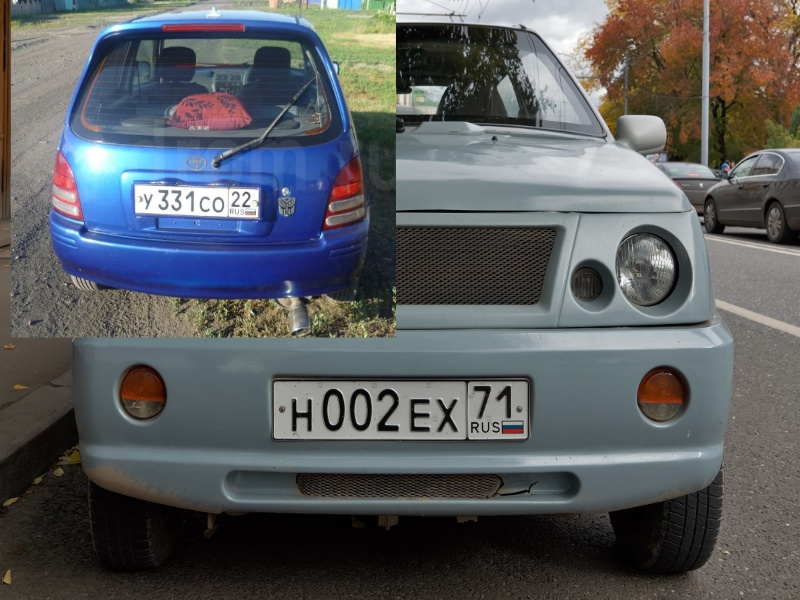car: (76, 16, 735, 575), (50, 9, 364, 301), (703, 149, 800, 240), (654, 161, 721, 211)
plate: (274, 380, 529, 439), (136, 187, 255, 216)
